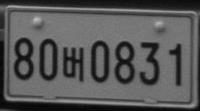0: (37, 37, 59, 81), (89, 39, 110, 83)
1: (166, 42, 187, 86)
3: (139, 40, 160, 86)
8: (12, 36, 34, 82), (113, 40, 136, 84)
버: (62, 45, 84, 82)
